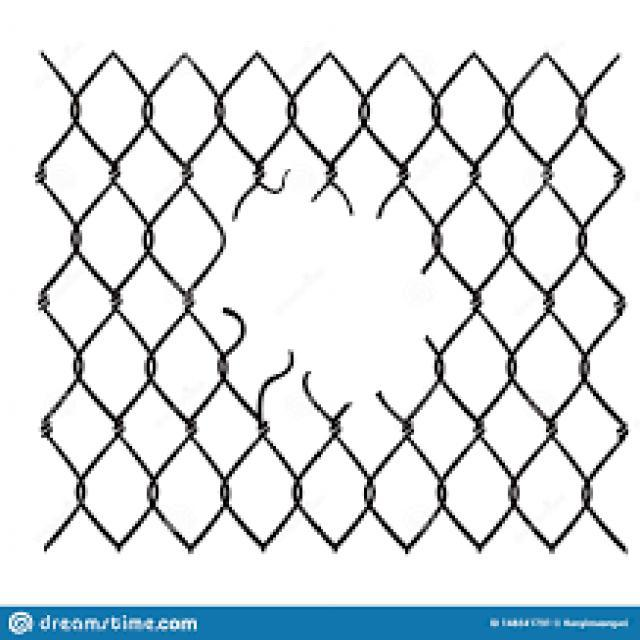fence line: (192, 172, 451, 424)
